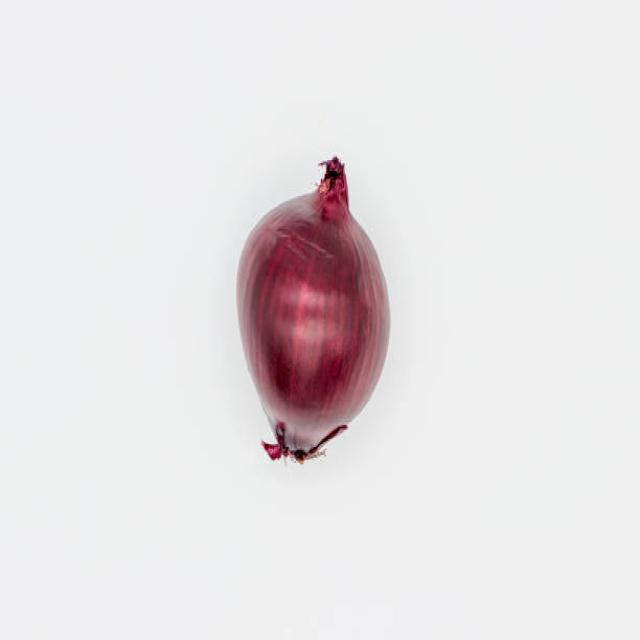onion: (229, 169, 401, 455)
